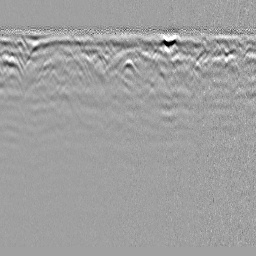cavity: (118, 57, 140, 77)
